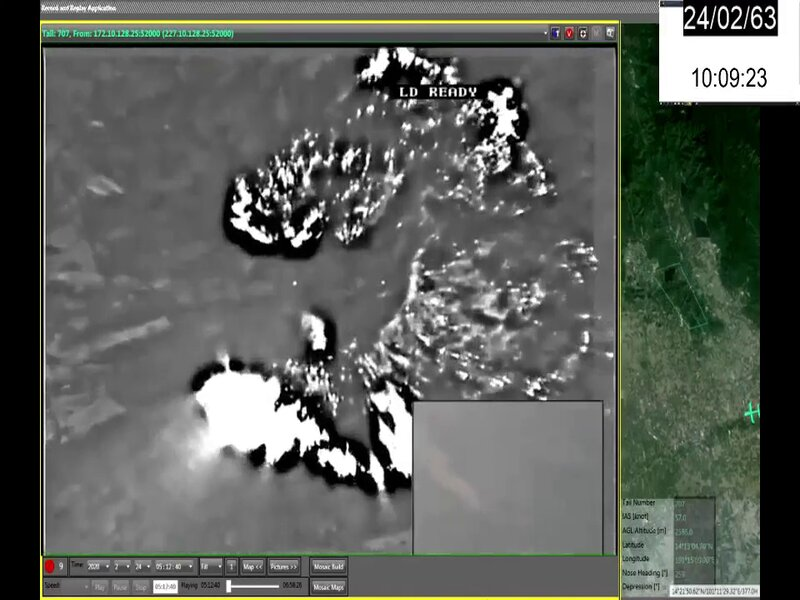Fire: (190, 48, 410, 500)
